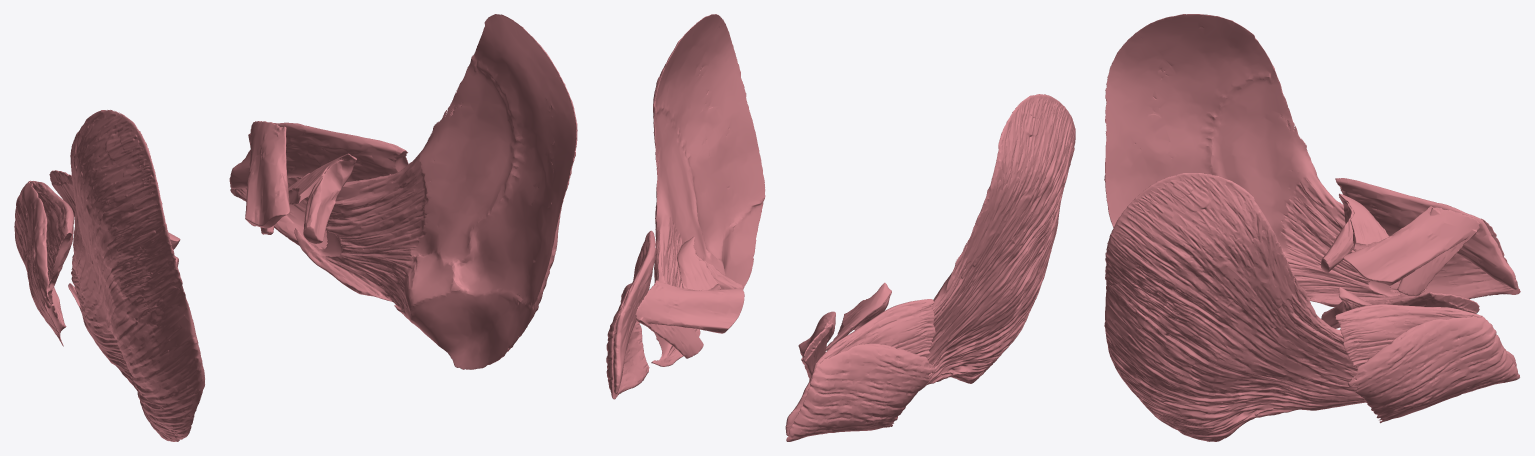
The model's file is machoire-muscles.glb.
The picture shows the model from 3 angles, left to right: view 1: azimuth 30°, elevation 25°; view 2: azimuth 150°, elevation 25°; view 3: azimuth 270°, elevation 25°; orthographic projection. The views are drawn at different scales.
Parts seen in each view (by area): view 1: muscle_temporal_gauche, muscle_temporal_droit, masseter_faisceau_superficiel_gauche, pterygoidien_medial_gauche, masseter_faisceau_profond_droit, masseter_faisceau_superficiel_droit, pterygoidien_lateral_chef_superieur_gauche, masseter_faisceau_profond_gauche, pterygoidien_lateral_chef_inferieur_gauche, pterygoidien_medial_droit; view 2: muscle_temporal_gauche, muscle_temporal_droit, masseter_faisceau_profond_droit, pterygoidien_medial_gauche, masseter_faisceau_superficiel_droit, masseter_faisceau_superficiel_gauche, masseter_faisceau_profond_gauche, pterygoidien_lateral_chef_inferieur_gauche, pterygoidien_medial_droit, pterygoidien_lateral_chef_inferieur_droit; view 3: muscle_temporal_gauche, muscle_temporal_droit, masseter_faisceau_profond_gauche, pterygoidien_medial_droit, masseter_faisceau_superficiel_droit, masseter_faisceau_superficiel_gauche, masseter_faisceau_profond_droit, pterygoidien_lateral_chef_inferieur_droit, pterygoidien_medial_gauche, pterygoidien_lateral_chef_superieur_droit, pterygoidien_lateral_chef_superieur_gauche.
Part boxes in pixels (x1=…): muscle_temporal_gauche: x1=294, y1=14, x2=577, y2=369; muscle_temporal_droit: x1=68, y1=110, x2=204, y2=441; masseter_faisceau_superficiel_gauche: x1=229, y1=122, x2=408, y2=189; pterygoidien_medial_gauche: x1=245, y1=121, x2=290, y2=234; masseter_faisceau_profond_droit: x1=14, y1=180, x2=66, y2=346; masseter_faisceau_superficiel_droit: x1=30, y1=181, x2=73, y2=289; pterygoidien_lateral_chef_superieur_gauche: x1=303, y1=159, x2=355, y2=243; masseter_faisceau_profond_gauche: x1=230, y1=177, x2=327, y2=249; pterygoidien_lateral_chef_inferieur_gauche: x1=288, y1=153, x2=356, y2=204; pterygoidien_medial_droit: x1=49, y1=170, x2=180, y2=249; muscle_temporal_gauche: x1=651, y1=14, x2=765, y2=366; muscle_temporal_droit: x1=918, y1=94, x2=1075, y2=391; masseter_faisceau_profond_droit: x1=786, y1=343, x2=935, y2=441; pterygoidien_medial_gauche: x1=635, y1=280, x2=744, y2=358; masseter_faisceau_superficiel_droit: x1=785, y1=299, x2=935, y2=435; masseter_faisceau_superficiel_gauche: x1=613, y1=230, x2=655, y2=393; masseter_faisceau_profond_gauche: x1=606, y1=283, x2=649, y2=399; pterygoidien_lateral_chef_inferieur_gauche: x1=677, y1=236, x2=721, y2=290; pterygoidien_medial_droit: x1=798, y1=311, x2=835, y2=380; pterygoidien_lateral_chef_inferieur_droit: x1=825, y1=282, x2=891, y2=350; muscle_temporal_gauche: x1=1104, y1=173, x2=1366, y2=441; muscle_temporal_droit: x1=1104, y1=14, x2=1426, y2=306; masseter_faisceau_profond_gauche: x1=1348, y1=316, x2=1519, y2=423; pterygoidien_medial_droit: x1=1343, y1=206, x2=1479, y2=295; masseter_faisceau_superficiel_droit: x1=1335, y1=178, x2=1517, y2=289; masseter_faisceau_superficiel_gauche: x1=1335, y1=304, x2=1516, y2=367; masseter_faisceau_profond_droit: x1=1390, y1=218, x2=1520, y2=299; pterygoidien_lateral_chef_inferieur_droit: x1=1339, y1=193, x2=1388, y2=250; pterygoidien_medial_gauche: x1=1365, y1=292, x2=1479, y2=313; pterygoidien_lateral_chef_superieur_droit: x1=1321, y1=198, x2=1353, y2=272; pterygoidien_lateral_chef_superieur_gauche: x1=1321, y1=299, x2=1358, y2=328.
Bounding box in the file's own units: 149 × 111 × 145.
